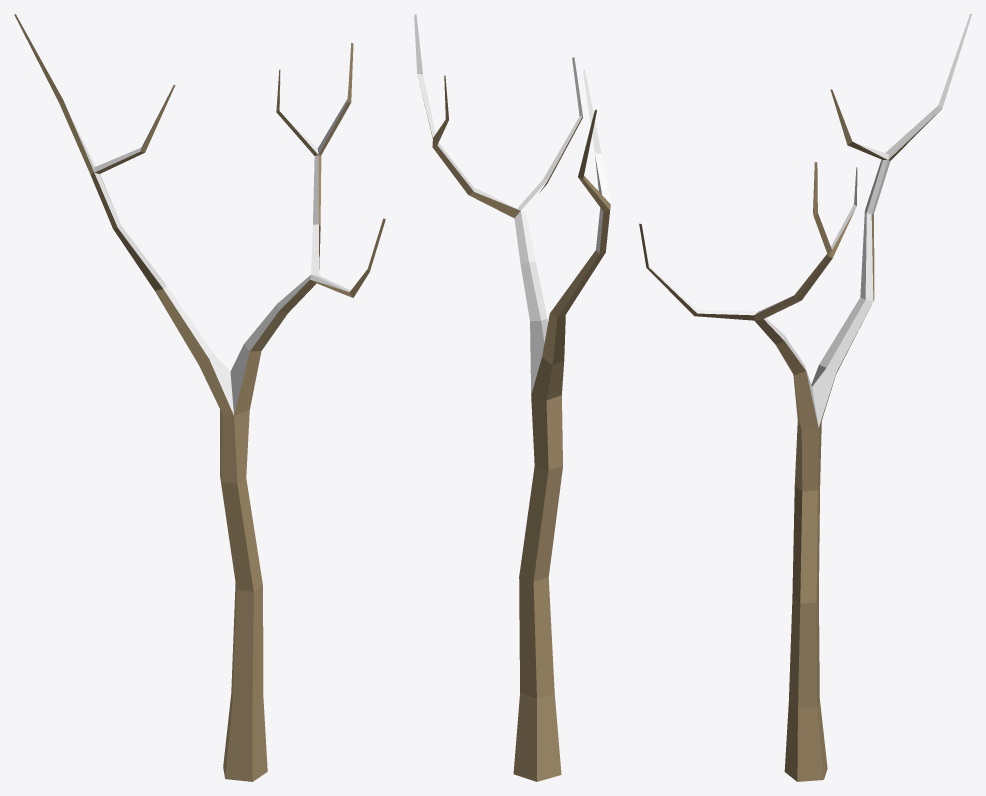
The model's file is Acacia_Tree_NoLeaves_s_Snow_BT_02.fbx.
3 renders of one model, left to right at view 1: azimuth 30°, elevation 25°; view 2: azimuth 150°, elevation 25°; view 3: azimuth 270°, elevation 25°, orthographic. The views are drawn at different scales.
Visible parts, largest first — view 1: Acacia_Tree_NoLeaves_s_Snow_BT_02; view 2: Acacia_Tree_NoLeaves_s_Snow_BT_02; view 3: Acacia_Tree_NoLeaves_s_Snow_BT_02.
Part boxes in pixels (bbox=[...]): Acacia_Tree_NoLeaves_s_Snow_BT_02: bbox=[14, 14, 385, 781]; Acacia_Tree_NoLeaves_s_Snow_BT_02: bbox=[414, 14, 610, 781]; Acacia_Tree_NoLeaves_s_Snow_BT_02: bbox=[639, 14, 971, 781].
Size of the model in its own units: 241 by 655 by 285.
